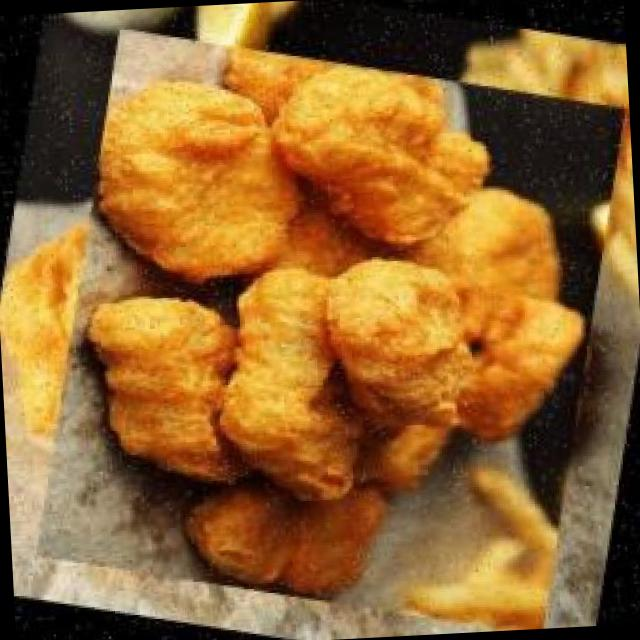chicken_nuggets: (1, 3, 640, 640)
